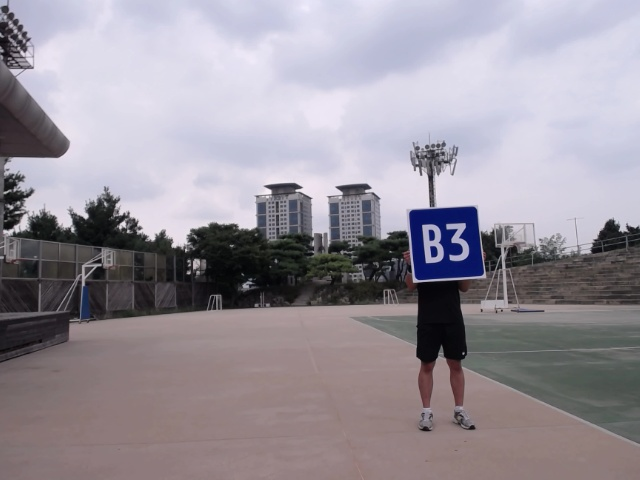delivery_b3: (405, 204, 491, 284)
